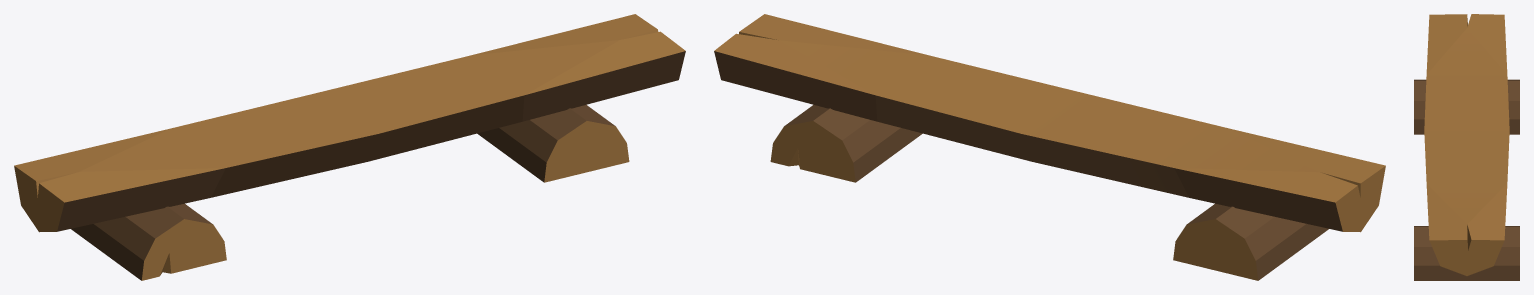
Rendered from props_bench-forest.fbx.
3 views of the same model, side by side, from view 1: azimuth 30°, elevation 25°; view 2: azimuth 150°, elevation 25°; view 3: azimuth 270°, elevation 25° (orthographic). The views are drawn at different scales.
Parts seen in each view (by area): view 1: props_bench_forest; view 2: props_bench_forest; view 3: props_bench_forest.
Boxes of the visible parts, box(x1,y1,x2,y2) form: props_bench_forest: box(14, 14, 685, 280); props_bench_forest: box(714, 14, 1385, 280); props_bench_forest: box(1414, 14, 1519, 280).
Size of the model in its own units: 200 by 27.41 by 39.56.
